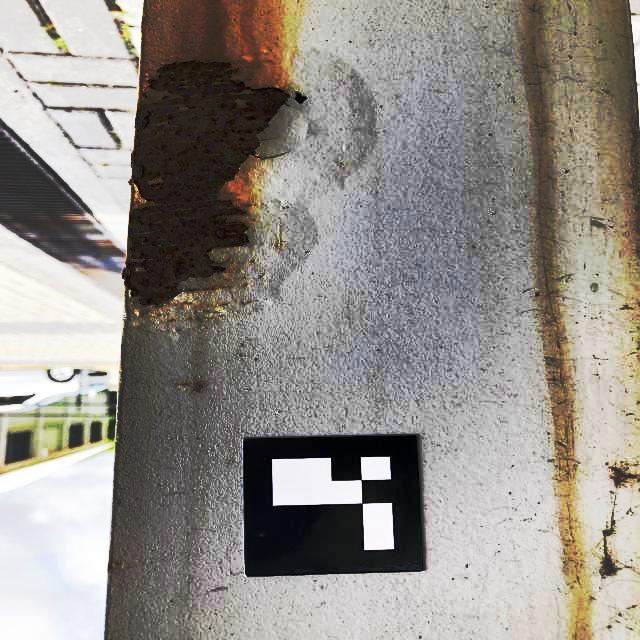Corrosion: (121, 46, 308, 323)
